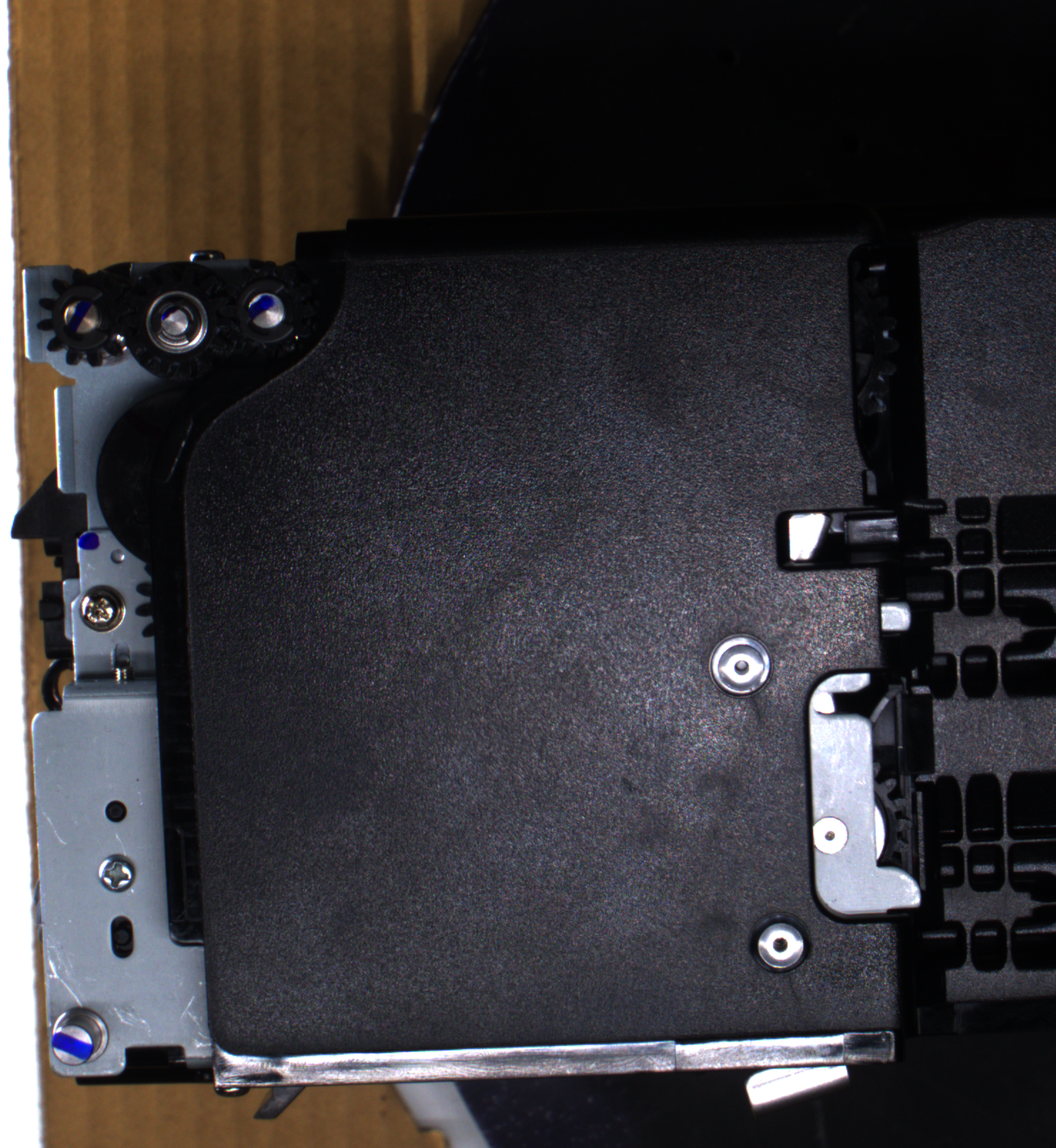centre_pin_presence: (739, 1049, 856, 1115)
centre_plate_presence: (801, 662, 931, 929)
centre_screw_presence: (704, 627, 777, 704), (744, 906, 814, 980)
gear1_presence: (36, 265, 136, 369)
gear2_presence: (120, 261, 236, 381)
gear3_presence: (215, 260, 317, 365)
side_screw_presence: (75, 582, 128, 633), (94, 851, 138, 893)
slanting_pin_presence: (45, 1003, 116, 1074)
